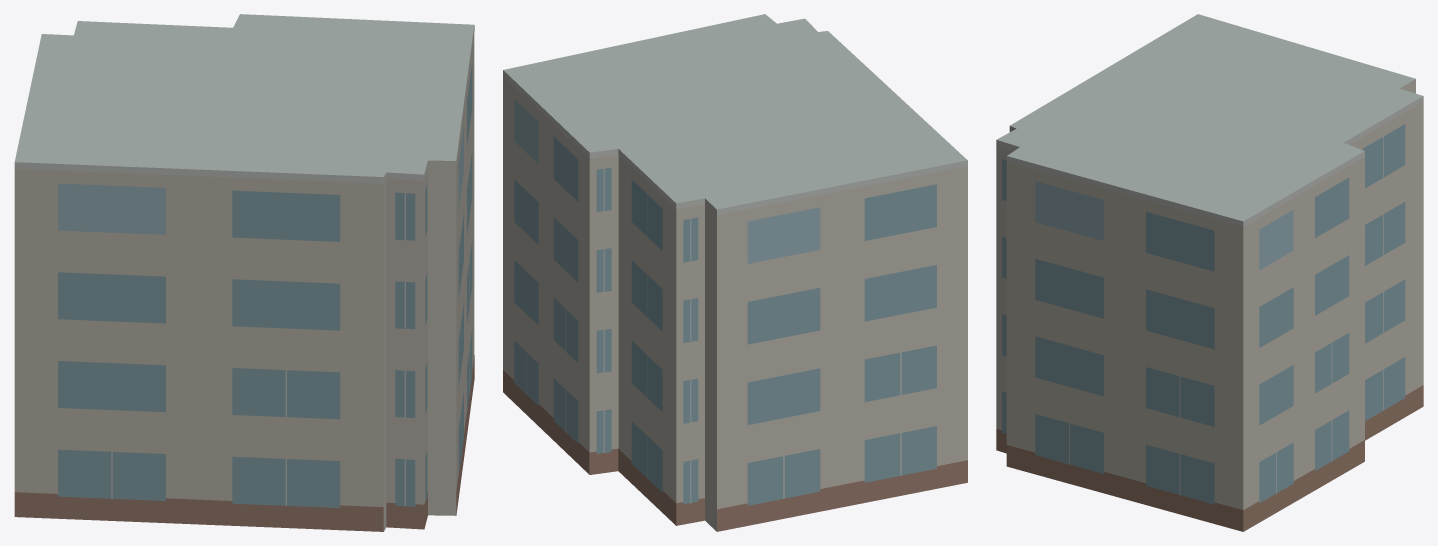
File: survey-upis-32940874.glb
3 renders of one model, left to right at view 1: azimuth 30°, elevation 25°; view 2: azimuth 150°, elevation 25°; view 3: azimuth 270°, elevation 25°, orthographic. The views are drawn at different scales.
Visible parts, largest first — view 1: survey-upis-32940874.tmp; view 2: survey-upis-32940874.tmp; view 3: survey-upis-32940874.tmp.
Boxes of the visible parts, x1,y1,x2,y2 form: survey-upis-32940874.tmp: (14, 14, 474, 531); survey-upis-32940874.tmp: (503, 14, 967, 531); survey-upis-32940874.tmp: (996, 14, 1423, 531).
Bounding box in the file's own units: 18.92 × 13.2 × 16.47.
